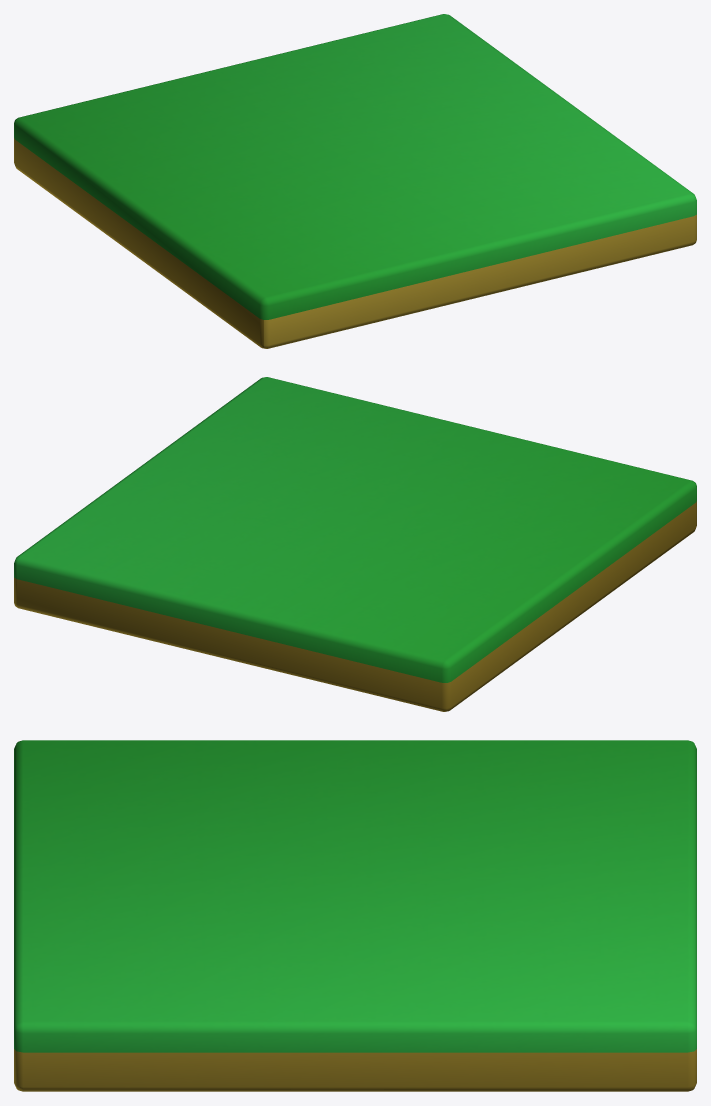
Rendered from ground 1.fbx.
The picture shows the model from 3 angles, top to bottom: view 1: azimuth 30°, elevation 25°; view 2: azimuth 150°, elevation 25°; view 3: azimuth 270°, elevation 25°; orthographic projection. The views are drawn at different scales.
Parts seen in each view (by area): view 1: Cube.001; view 2: Cube.001; view 3: Cube.001.
Boxes of the visible parts, x1,y1,x2,y2 form: Cube.001: [14, 14, 696, 348]; Cube.001: [14, 377, 696, 711]; Cube.001: [14, 740, 696, 1091].
Size of the model in its own units: 1765 by 200 by 1765.
